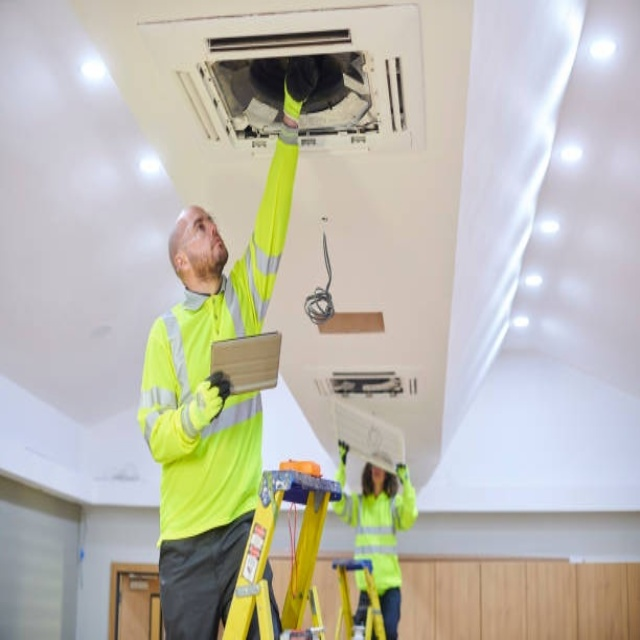Gafas: (177, 210, 214, 254)
Guantes: (182, 379, 226, 435), (285, 57, 318, 107), (338, 440, 350, 465), (396, 463, 408, 485)
Sin_mascara: (204, 227, 230, 259)
